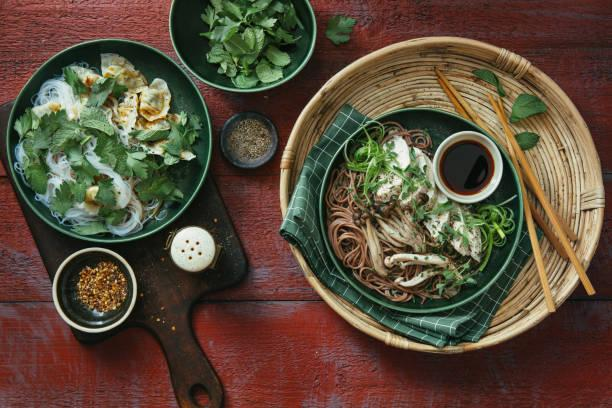Braised Crucian Carp: (278, 34, 600, 353), (8, 37, 212, 242), (168, 0, 312, 94)
